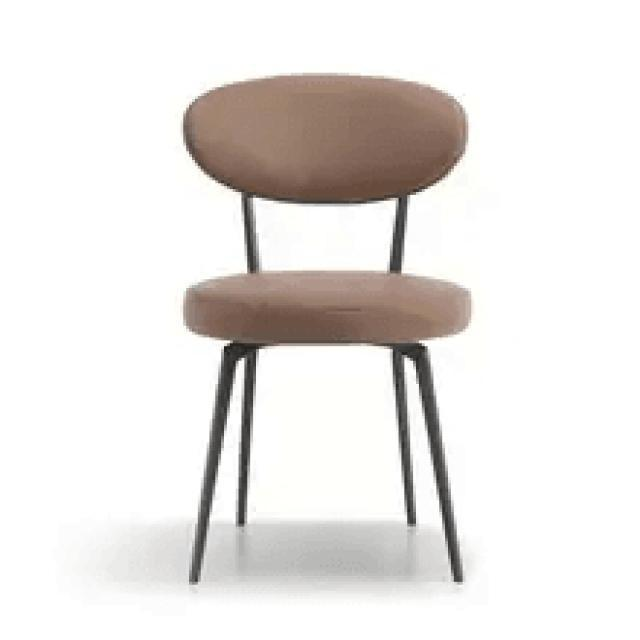chair: (177, 66, 473, 591), (182, 73, 473, 350)
